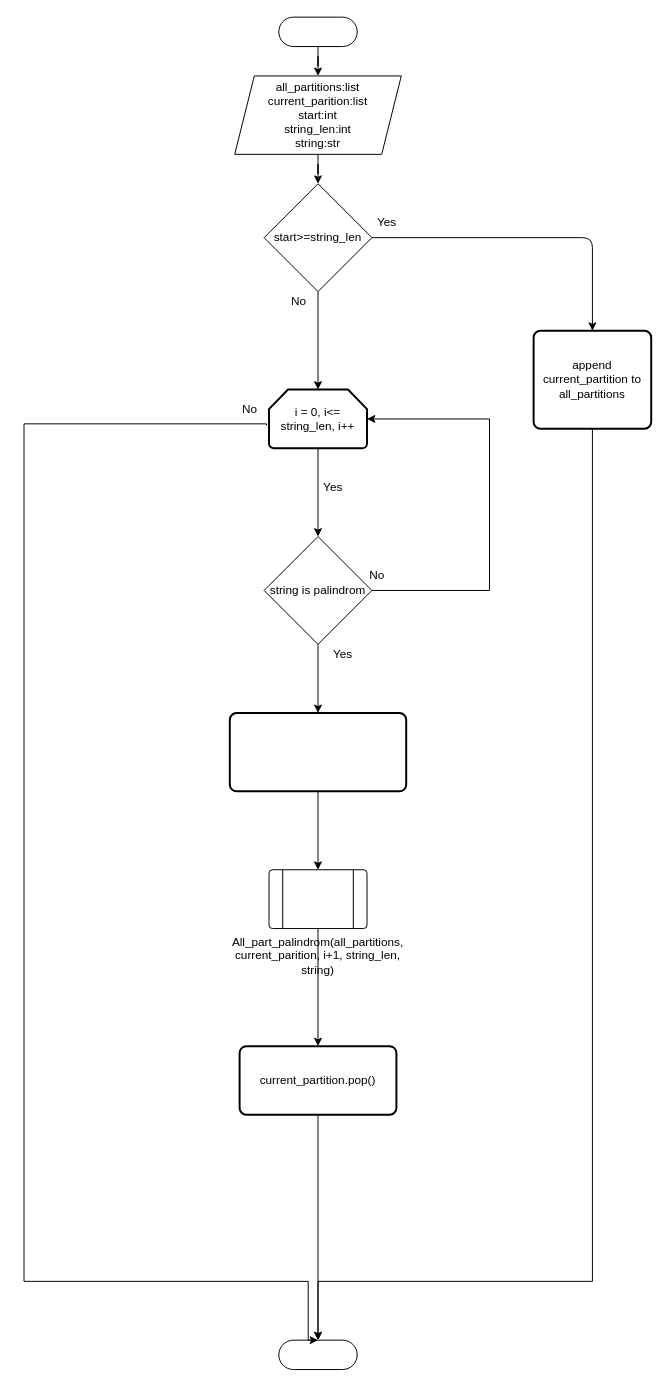
This 669x1387 diagram has some shape labels left out. The shapes that lost their labels are listed below. From the top down, each one's centre as x and y in pixels, then its label:
the point at 317,31: start
the point at 317,751: append string[start:i+1] to current_partition
the point at 317,1354: End
